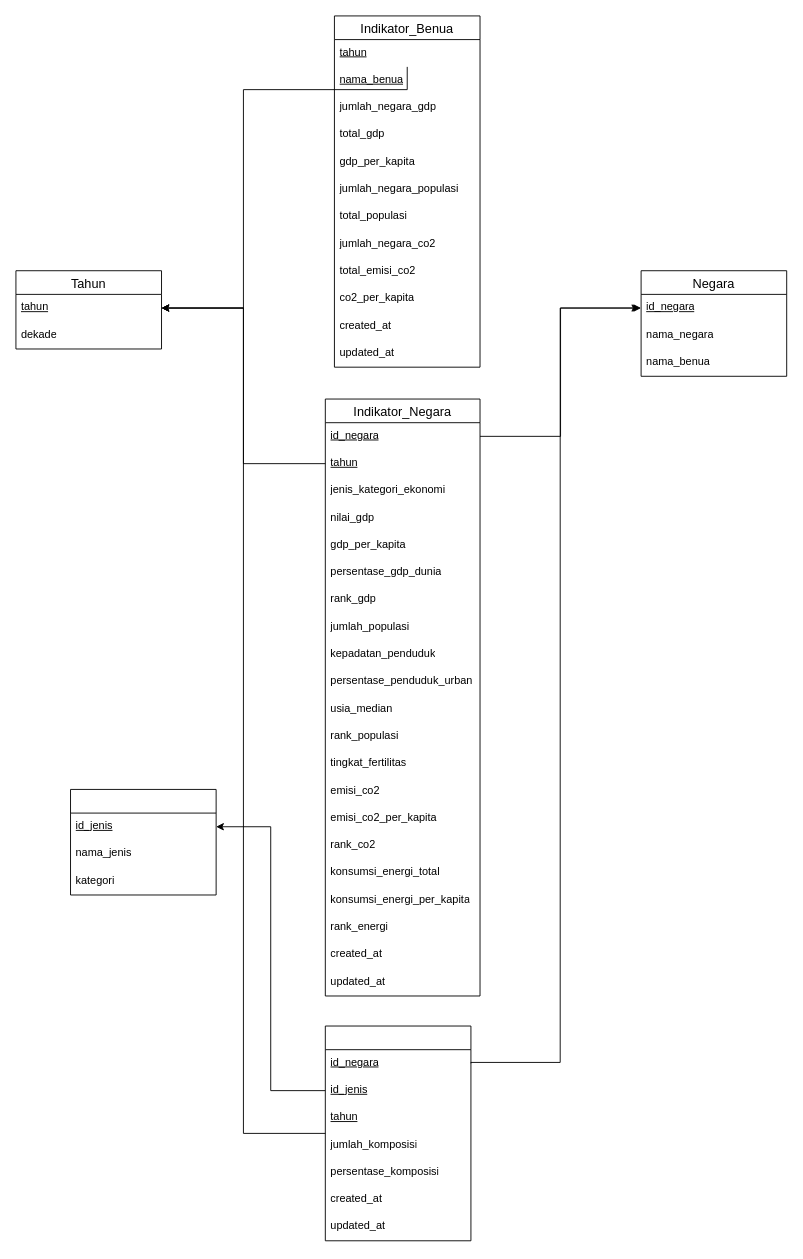
This 803x1259 diagram has some shape labels left out. Here are the shapes that lost their labels. From the top down, the box of each, then its label:
(70, 789, 216, 895): Jenis_Energi
(324, 1025, 471, 1241): Komposisi_Energi
